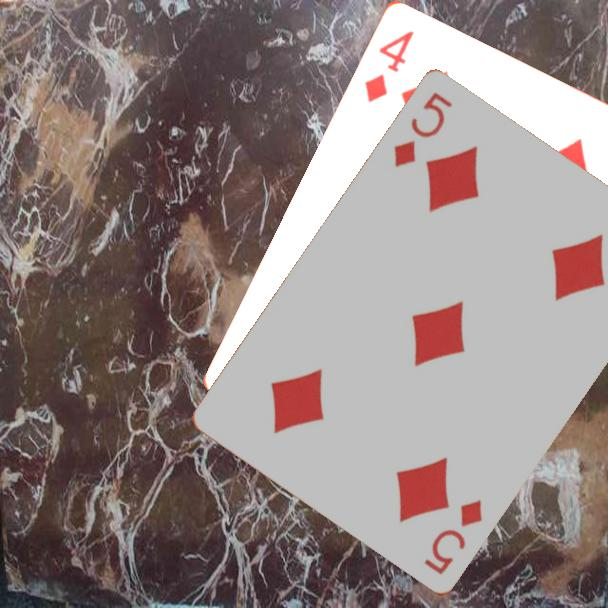d04: (360, 26, 417, 105)
d05: (420, 496, 486, 578), (390, 89, 456, 171)
